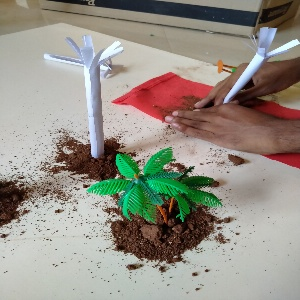plant: (89, 141, 242, 229)
weed: (62, 38, 126, 160), (235, 21, 298, 82)
